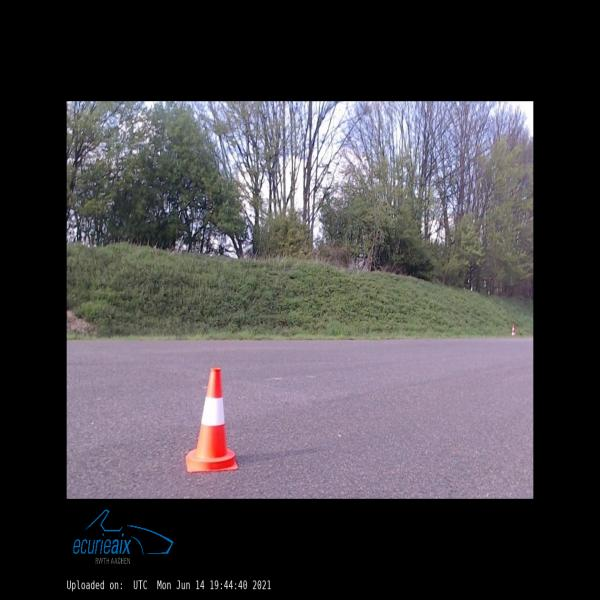large_orange_cone: (510, 322, 516, 337)
orange_cone: (186, 368, 238, 472)
